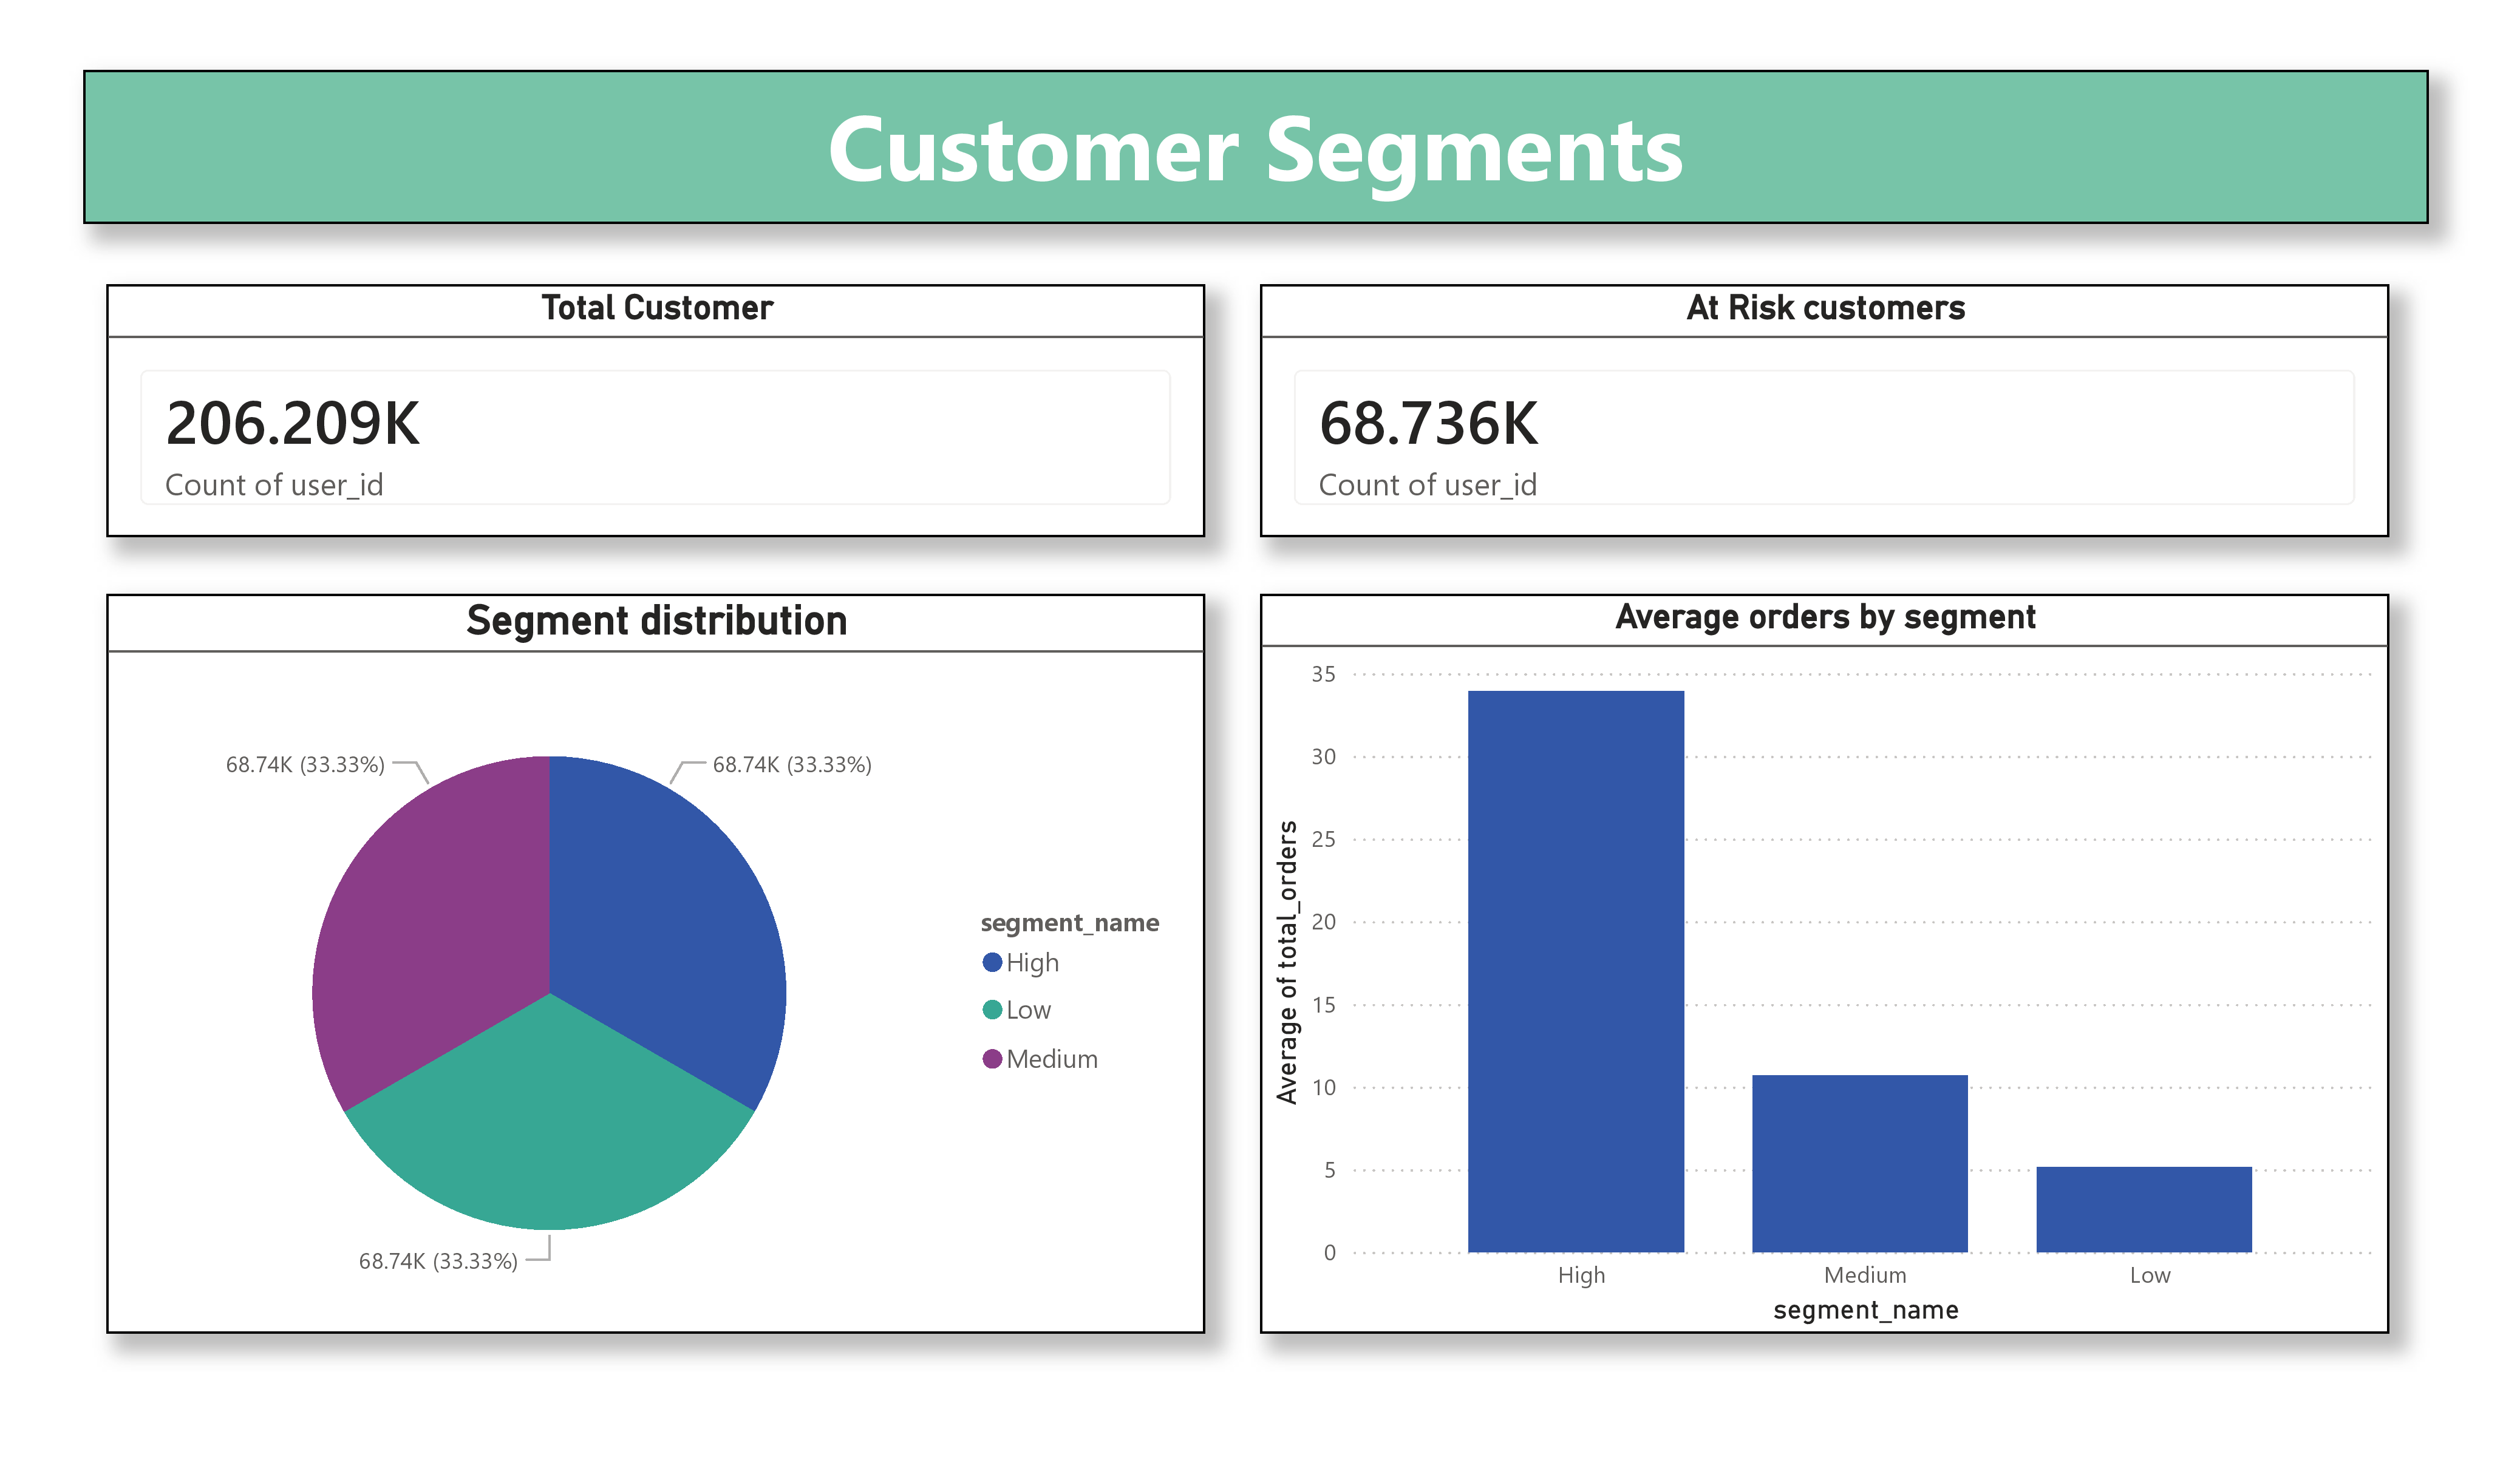

The page's visual inventory and layout, read from the dashboard file:
{"tool":"powerbi","page":{"name":"Customer Segments","canvas":[1280,720],"ordinal":1},"visuals":[{"type":"textbox","box":[20.2,13.4,1236.3,80.6],"z":0},{"type":"pieChart","title":"Segment distribution","fields":{"Category":["customer_segments.segment_name"],"Y":["CountNonNull(customer_segments.user_id)"]},"box":[31.9,288.9,579.5,389.7],"z":1000},{"type":"columnChart","title":"Average orders by segment","fields":{"Category":["customer_segments.segment_name"],"Y":["Avg(customer_segments.total_orders)"]},"box":[640,288.9,594.6,389.7],"z":2000},{"type":"cardVisual","title":"Total Customer","fields":{"Data":["CountNonNull(customer_segments.user_id)"]},"box":[31.9,126,579.5,132.7],"z":3000},{"type":"cardVisual","title":"At Risk customers","fields":{"Data":["CountNonNull(customer_segments.user_id)"]},"box":[640,126,594.6,132.7],"z":4000}]}

Visuals, with their boxes in screenshot pixels (x1, y1, x2, y2):
textbox: left=90, top=71, right=2406, bottom=222
"Segment distribution" pieChart: left=112, top=587, right=1197, bottom=1316
"Average orders by segment" columnChart: left=1251, top=587, right=2365, bottom=1316
"Total Customer" cardVisual: left=112, top=282, right=1197, bottom=530
"At Risk customers" cardVisual: left=1251, top=282, right=2365, bottom=530
